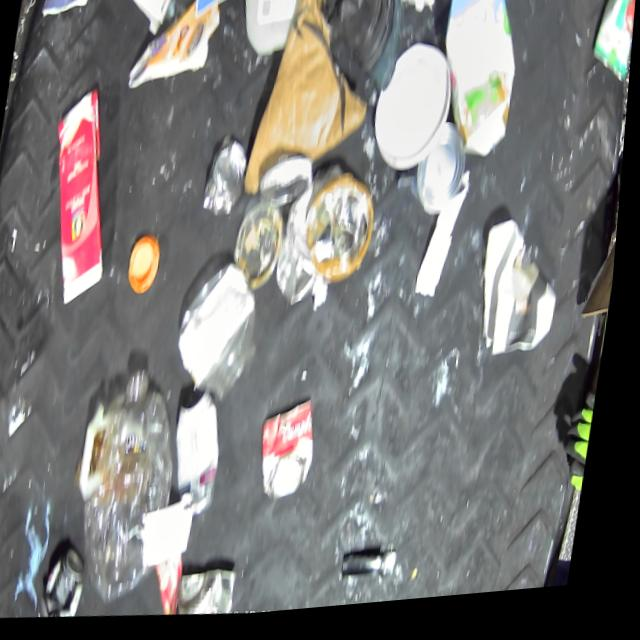can: (170, 384, 238, 527), (258, 398, 330, 512), (411, 124, 475, 229), (202, 133, 256, 226), (589, 0, 638, 98), (47, 544, 100, 621), (258, 158, 319, 219), (186, 565, 250, 623)
milk_jug: (231, 0, 338, 70)
plastic_bottle: (75, 365, 196, 615)
